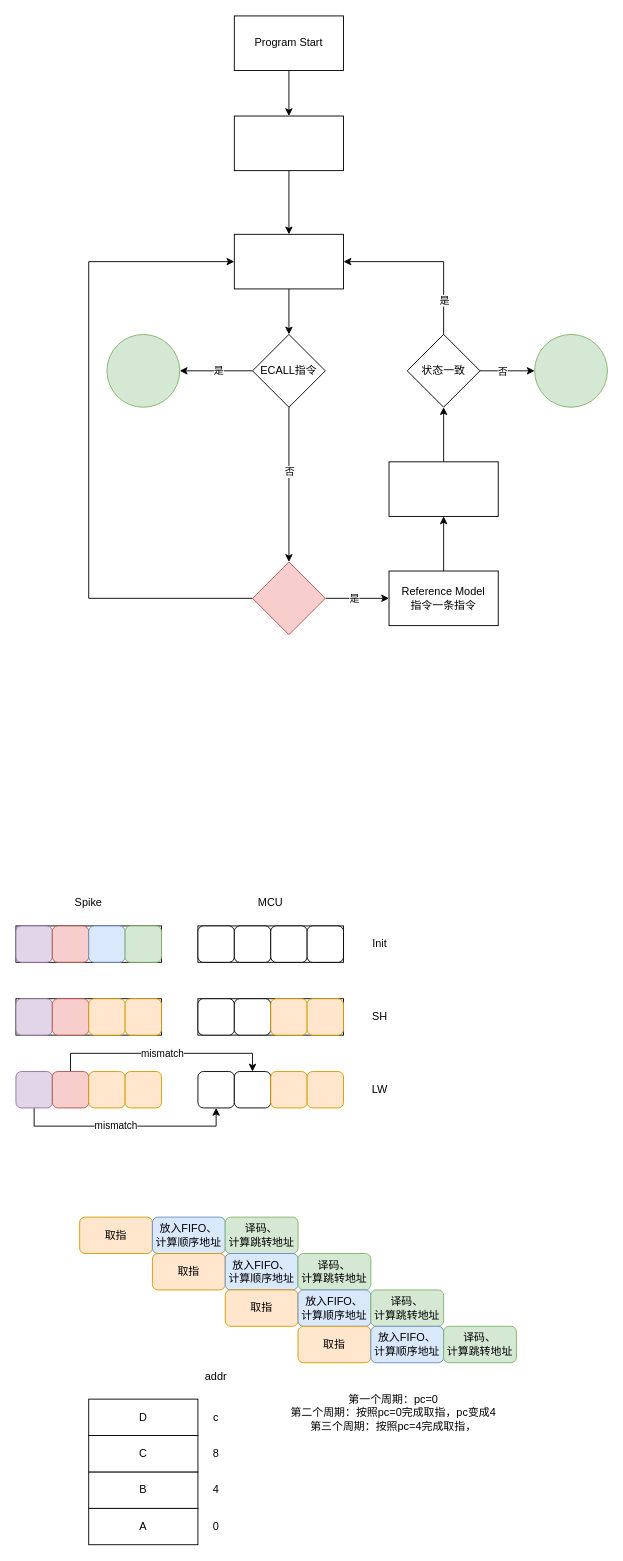
Image size: 623x1561. Some labels were removed from this diagram. Here are the shapes that lost their labels. From the top down, the box of each, then its label:
(233, 115, 344, 171): 初始化MCU 初始化REF Model 初始化Difftest
(233, 233, 344, 289): MCU执行一条指令
(106, 334, 180, 407): 测试通过
(534, 334, 607, 407): 测试失败
(388, 461, 498, 516): Difftest比较 MCU跟REF 寄存器
(252, 561, 325, 635): MCU 指令提交
